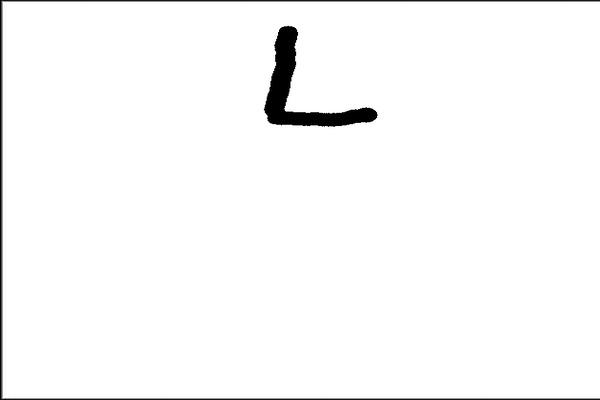L: (256, 19, 384, 137)
